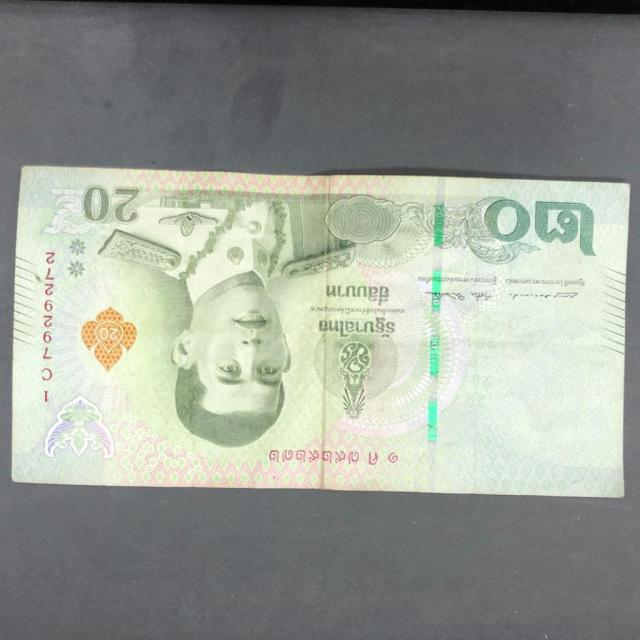THAI20: (11, 167, 630, 498)
